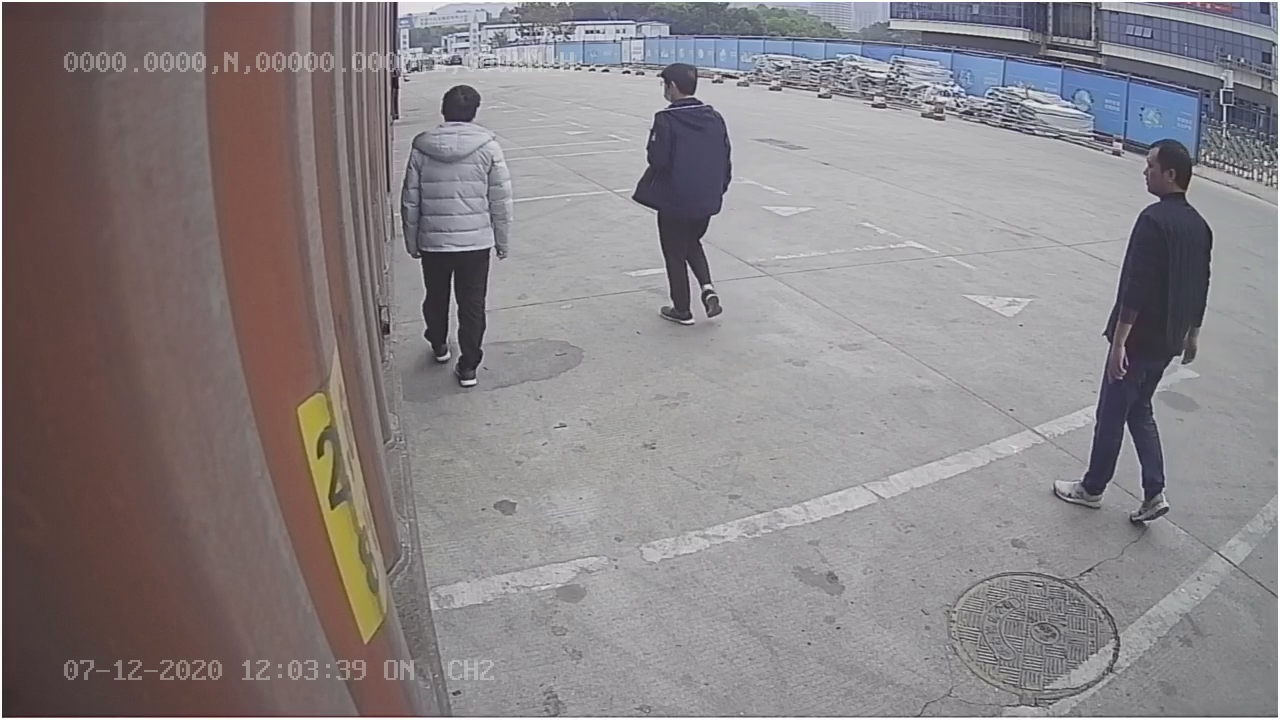person: (1048, 131, 1213, 523), (402, 84, 518, 387), (625, 52, 741, 332)
